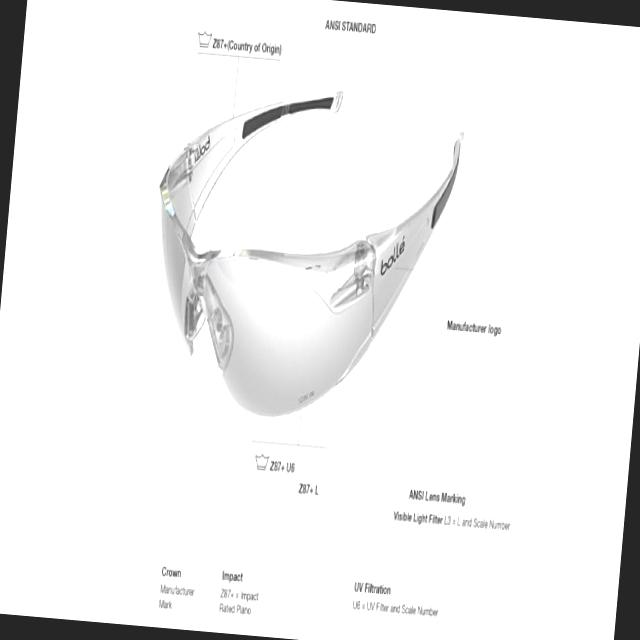goggles: (132, 78, 467, 379)
